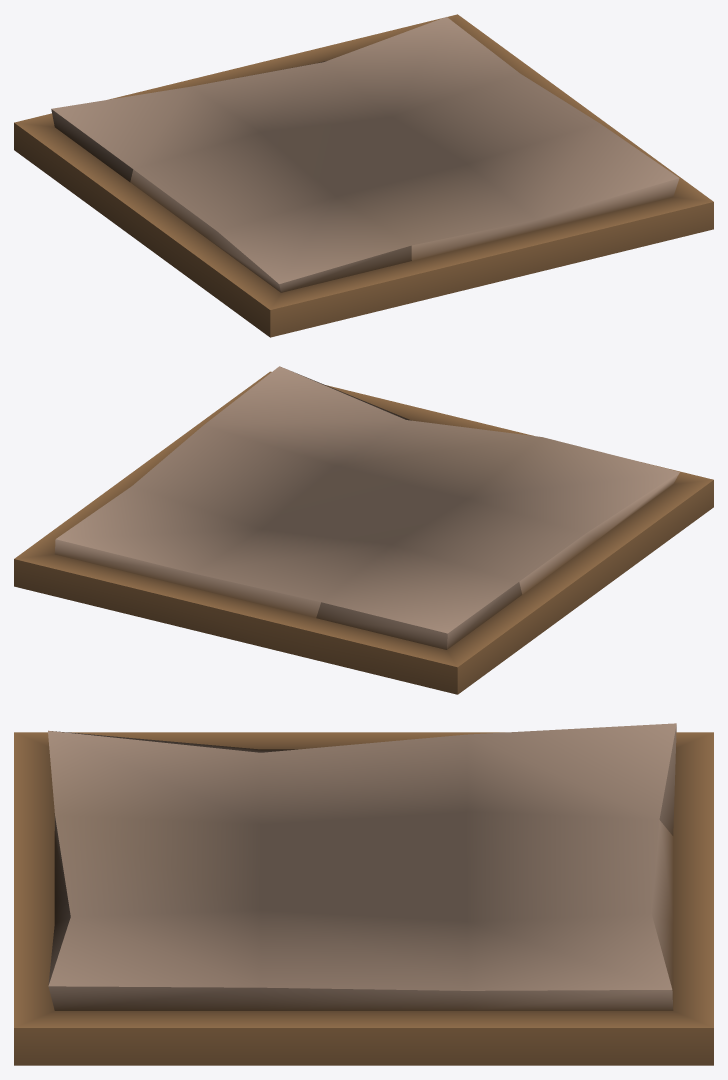
The picture shows the model from 3 angles, top to bottom: view 1: azimuth 30°, elevation 25°; view 2: azimuth 150°, elevation 25°; view 3: azimuth 270°, elevation 25°; orthographic projection. The views are drawn at different scales.
Visible parts, largest first — view 1: FallingRectangle; view 2: FallingRectangle; view 3: FallingRectangle.
Part boxes in pixels (x1,y1,x2,y2): FallingRectangle: [14, 14, 713, 337]; FallingRectangle: [14, 366, 713, 694]; FallingRectangle: [14, 723, 713, 1065].
Size of the model in its own units: 150 by 15.3 by 150.
